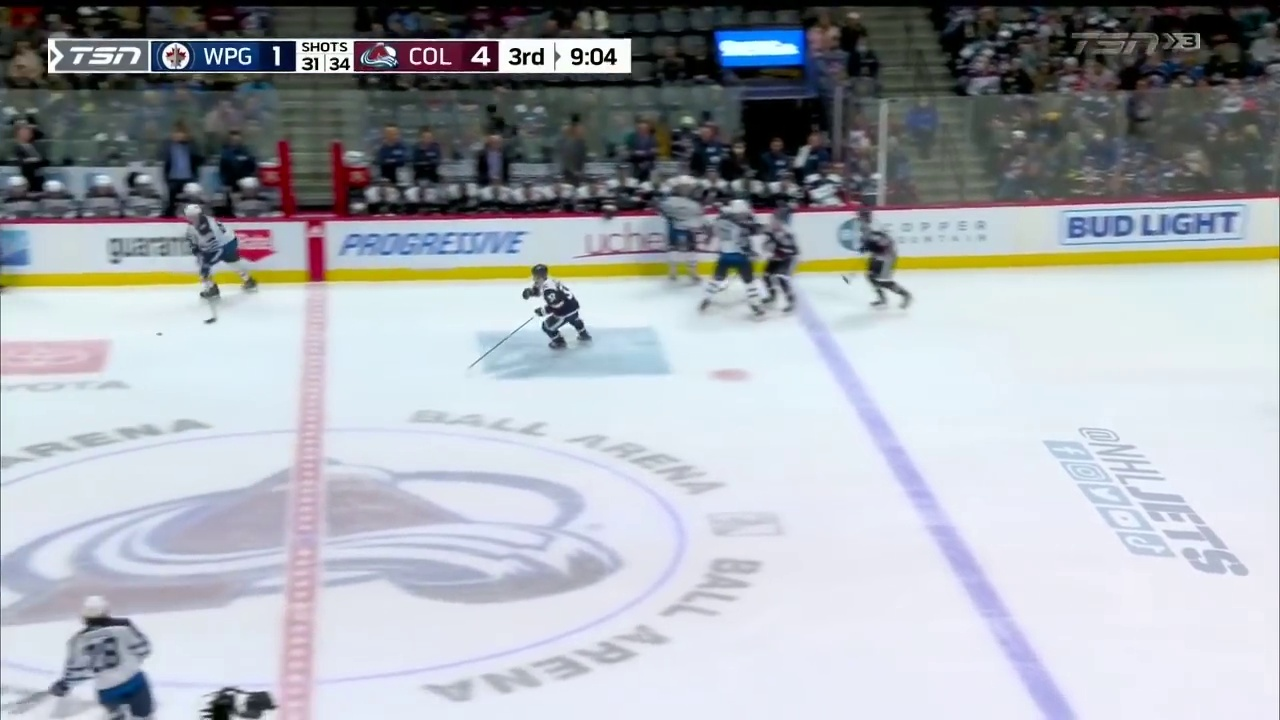hockeyplayer: (48, 595, 156, 720), (700, 201, 766, 319), (183, 203, 257, 301), (521, 263, 591, 349), (858, 209, 913, 309), (750, 211, 801, 314), (655, 184, 703, 284)
